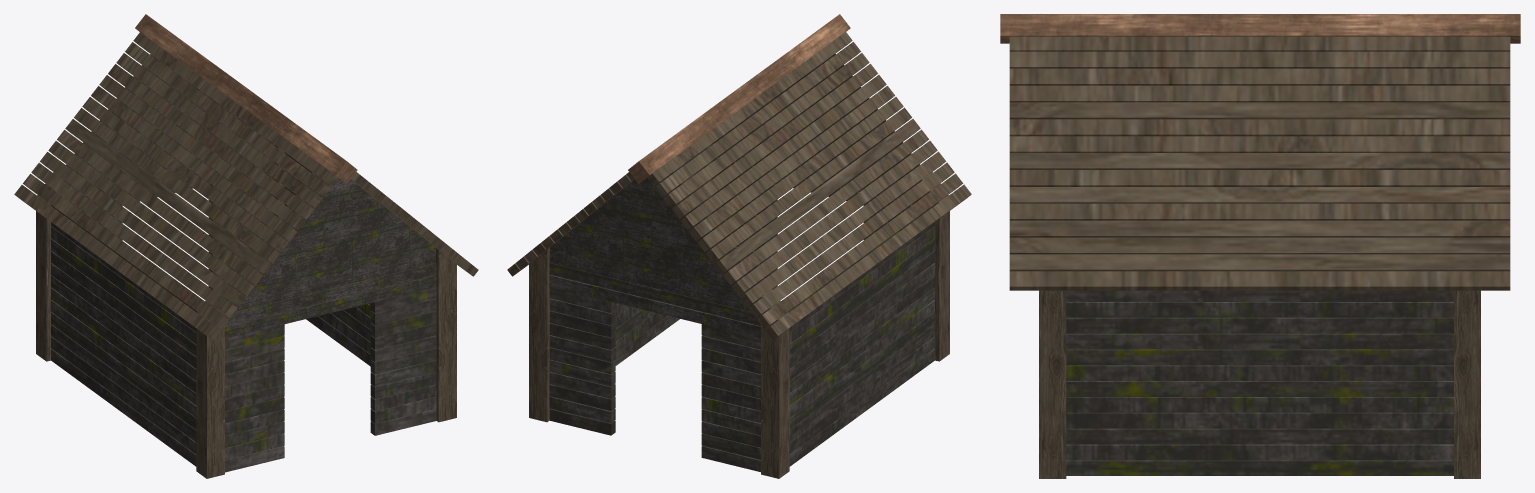
Rendered from Hut.fbx.
The picture shows the model from 3 angles, left to right: view 1: azimuth 30°, elevation 25°; view 2: azimuth 150°, elevation 25°; view 3: azimuth 270°, elevation 25°; orthographic projection. The views are drawn at different scales.
Visible parts, largest first — view 1: Hut; view 2: Hut; view 3: Hut.
Part boxes in pixels (bbox=[...]): Hut: bbox=[14, 14, 478, 478]; Hut: bbox=[507, 14, 971, 478]; Hut: bbox=[1000, 14, 1520, 478].
Bounding box in the file's own units: 751 × 789 × 964.
Materials: 1 (1 with a texture image).
